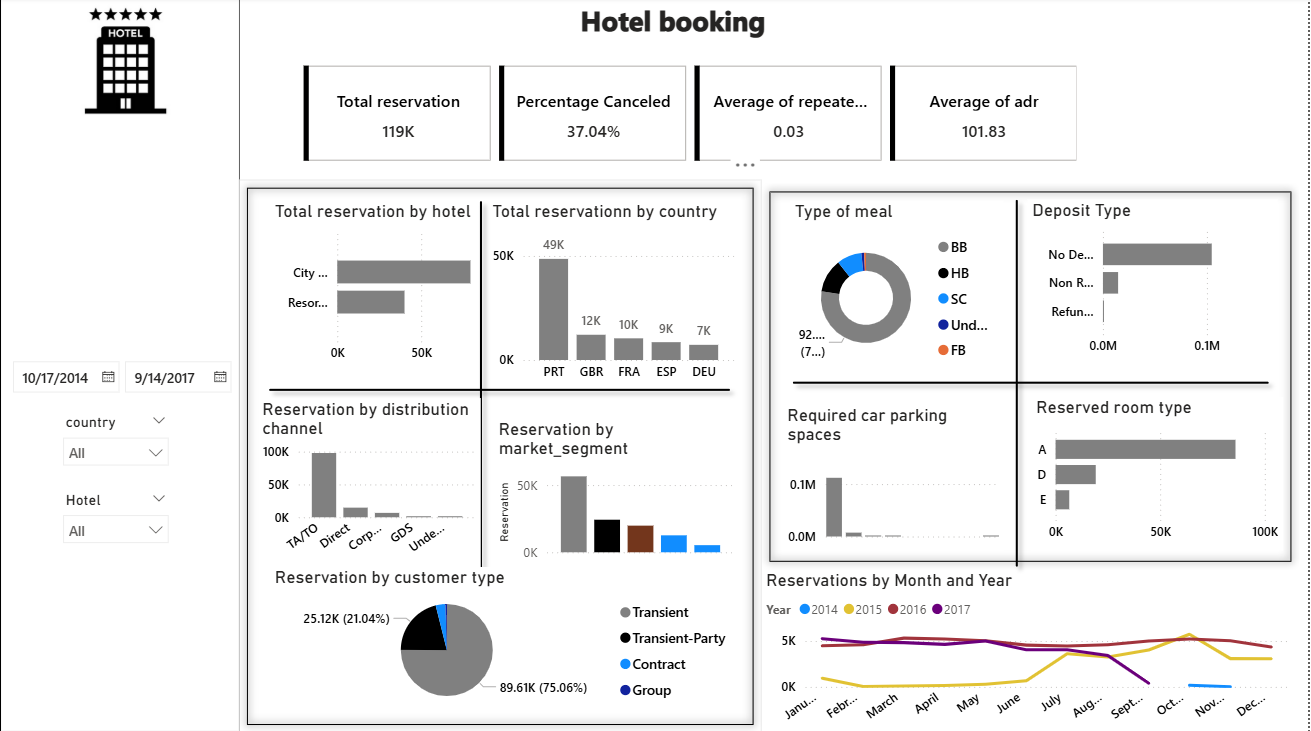

The dashboard page shown, as its layout file describes it:
{"tool":"powerbi","page":{"name":"Page 1","canvas":[1280,720],"ordinal":0},"visuals":[{"type":"barChart","fields":{"Category":["hotel_bookings.hotel"],"Y":["CountNonNull(hotel_bookings.reservation_status_date)"]},"box":[263.8,199,213.4,167.2],"z":0},{"type":"lineChart","fields":{"Category":["hotel_bookings.reservation_status_date.Variation.Date Hierarchy.Month"],"Y":["CountNonNull(hotel_bookings.reservation_status_date)"],"Series":["hotel_bookings.reservation_status_date.Variation.Date Hierarchy.Year"]},"box":[745,560,520,160],"z":1000},{"type":"slicer","fields":{"Values":["hotel_bookings.reservation_status_date"]},"box":[0,345.5,235.7,78.6],"z":2000},{"type":"textbox","box":[174.3,0,974.3,57.6],"z":3000},{"type":"cardVisual","fields":{"Data":["hotel_bookings.Total reservationn","hotel_bookings.PercentageCanceled","Avg(hotel_bookings.is_repeated_guest)","Avg(hotel_bookings.adr)"]},"box":[292.7,62,961.7,103.8],"z":4000},{"type":"shape","box":[0,0,234.8,719],"z":5000},{"type":"image","box":[51.5,0,150.4,124.6],"z":6000},{"type":"slicer","fields":{"Values":["hotel_bookings.country"]},"box":[51.5,402.4,123.3,56.9],"z":7000},{"type":"slicer","fields":{"Values":["hotel_bookings.hotel"]},"box":[51.5,478.2,123.3,79.9],"z":8000},{"type":"shape","box":[745,181.7,526.7,378.3],"z":9000},{"type":"columnChart","fields":{"Category":["hotel_bookings.country"],"Y":["hotel_bookings.Total reservationn"]},"box":[477.2,199,246.5,186],"z":10000},{"type":"shape","box":[201.6,190.6,537.5,387.5],"z":11000},{"type":"clusteredColumnChart","fields":{"Category":["hotel_bookings.market_segment"],"Y":["CountNonNull(hotel_bookings.reservation_status_date)"]},"box":[482.8,412.5,240.6,145.3],"z":12000},{"type":"pieChart","fields":{"Category":["hotel_bookings.customer_type"],"Y":["CountNonNull(hotel_bookings.reservation_status_date)"]},"box":[264.1,557.8,459.4,143.8],"z":13000},{"type":"shape","box":[254.7,298.4,468.8,171.9],"z":14000},{"type":"clusteredColumnChart","fields":{"Category":["hotel_bookings.distribution_channel"],"Y":["CountNonNull(hotel_bookings.reservation_status_date)"]},"box":[251.6,392.2,218.8,165.6],"z":15000},{"type":"shape","box":[233.3,178.3,511.7,541.7],"z":16000},{"type":"shape","box":[726.7,190,536.7,376.7],"z":17000},{"type":"donutChart","title":"Type of meal ","fields":{"Category":["hotel_bookings.meal"],"Y":["CountNonNull(hotel_bookings.reservation_status_date)"]},"box":[773.1,198.7,209,166.7],"z":18000},{"type":"columnChart","title":"Required car parking spaces","fields":{"Category":["hotel_bookings.required_car_parking_spaces"],"Y":["CountNonNull(hotel_bookings.reservation_status_date)"]},"box":[765,398.3,216.7,143.3],"z":19000},{"type":"barChart","title":" Deposit Type","fields":{"Category":["hotel_bookings.deposit_type"],"Y":["CountNonNull(hotel_bookings.reservation_status_date)"]},"box":[1008.3,198.3,240,141.7],"z":20000},{"type":"clusteredBarChart","title":"Reserved room type","fields":{"Category":["hotel_bookings.reserved_room_type"],"Y":["CountNonNull(hotel_bookings.reservation_status_date)"]},"box":[1008.3,391.7,246.7,150],"z":21000},{"type":"shape","box":[766.7,290,483.3,175],"z":22000}]}

Visuals, with their boxes in screenshot pixels (x1, y1, x2, y2), scaled from the page's 1280x720 canvas onto the 1311x731 screenshot:
barChart - hotel_bookings.hotel x CountNonNull(hotel_bookings.reservation_status_date): locate(270, 202, 489, 372)
lineChart - hotel_bookings.reservation_status_date.Variation.Date Hierarchy.Month x CountNonNull(hotel_bookings.reservation_status_date): locate(763, 569, 1296, 730)
slicer - hotel_bookings.reservation_status_date: locate(0, 351, 241, 431)
textbox: locate(179, 0, 1176, 58)
cardVisual - hotel_bookings.Total reservationn x hotel_bookings.PercentageCanceled: locate(300, 63, 1285, 168)
shape: locate(0, 0, 240, 730)
image: locate(53, 0, 207, 127)
slicer - hotel_bookings.country: locate(53, 409, 179, 466)
slicer - hotel_bookings.hotel: locate(53, 486, 179, 567)
shape: locate(763, 184, 1302, 569)
columnChart - hotel_bookings.country x hotel_bookings.Total reservationn: locate(489, 202, 741, 391)
shape: locate(206, 194, 757, 587)
clusteredColumnChart - hotel_bookings.market_segment x CountNonNull(hotel_bookings.reservation_status_date): locate(494, 419, 741, 566)
pieChart - hotel_bookings.customer_type x CountNonNull(hotel_bookings.reservation_status_date): locate(270, 566, 741, 712)
shape: locate(261, 303, 741, 477)
clusteredColumnChart - hotel_bookings.distribution_channel x CountNonNull(hotel_bookings.reservation_status_date): locate(258, 398, 482, 566)
shape: locate(239, 181, 763, 730)
shape: locate(744, 193, 1294, 575)
"Type of meal " donutChart: locate(792, 202, 1006, 371)
"Required car parking spaces" columnChart: locate(784, 404, 1005, 550)
" Deposit Type" barChart: locate(1033, 201, 1279, 345)
"Reserved room type" clusteredBarChart: locate(1033, 398, 1285, 550)
shape: locate(785, 294, 1280, 472)
